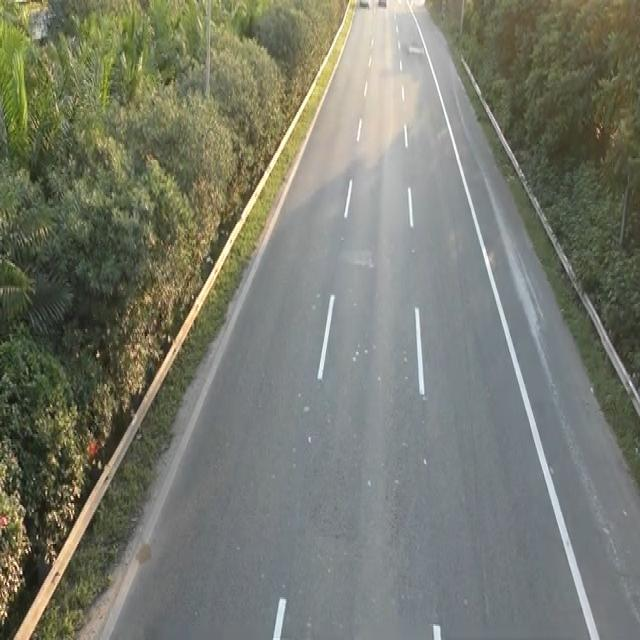bus: (358, 0, 370, 9), (377, 0, 387, 7)
